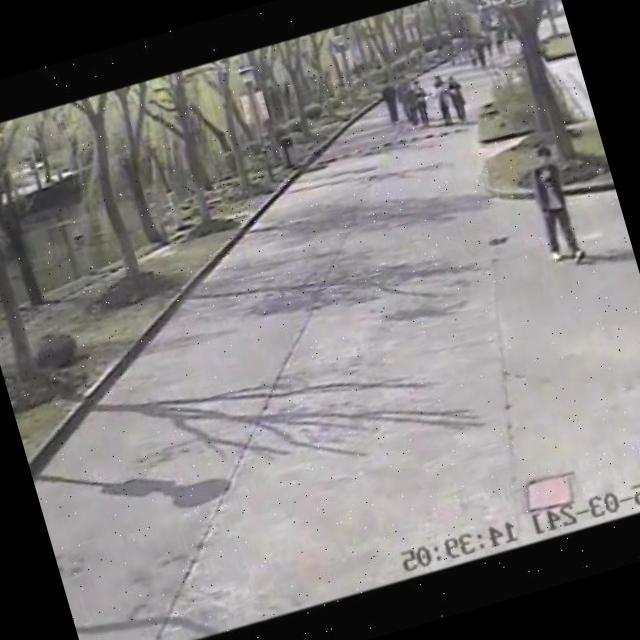person: (516, 137, 592, 276), (389, 69, 425, 130), (440, 66, 476, 126), (426, 72, 460, 130), (404, 74, 438, 130), (374, 74, 406, 132)
